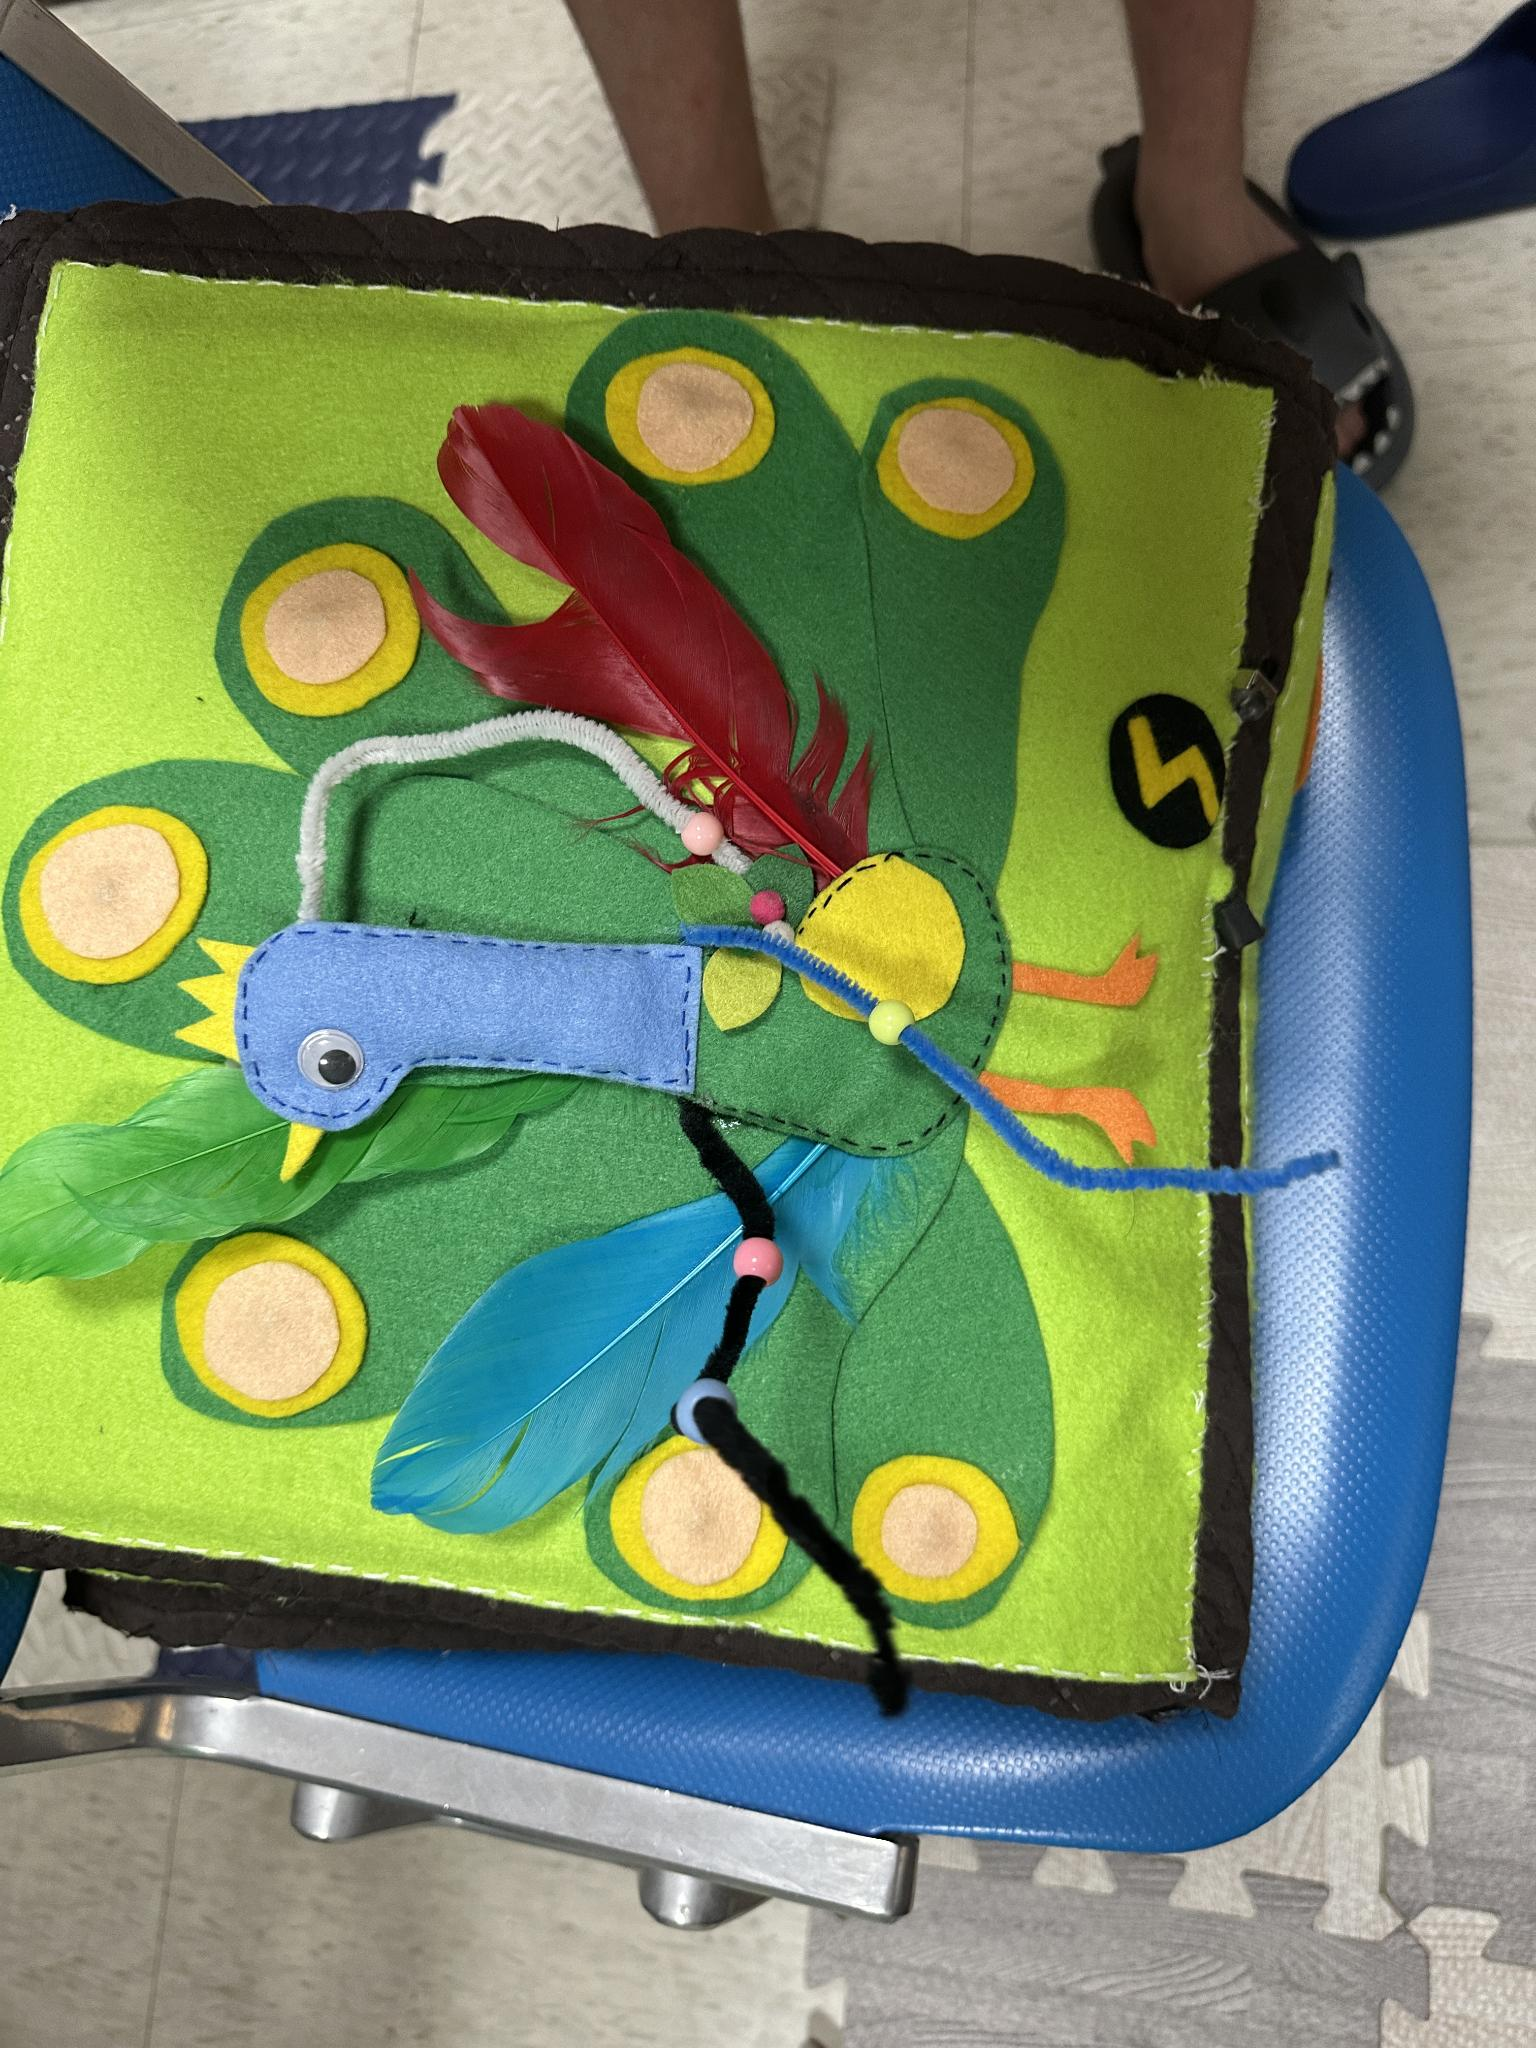bead: (655, 1358, 771, 1456), (655, 784, 750, 877), (849, 977, 934, 1077), (721, 1221, 800, 1297)
